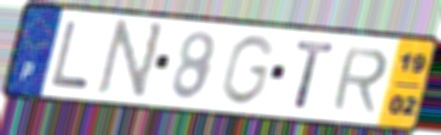8: (168, 28, 218, 101)
G: (217, 32, 278, 108)
L: (49, 19, 93, 92)
N: (92, 17, 168, 103)
R: (327, 45, 391, 115)
T: (293, 38, 339, 111)
